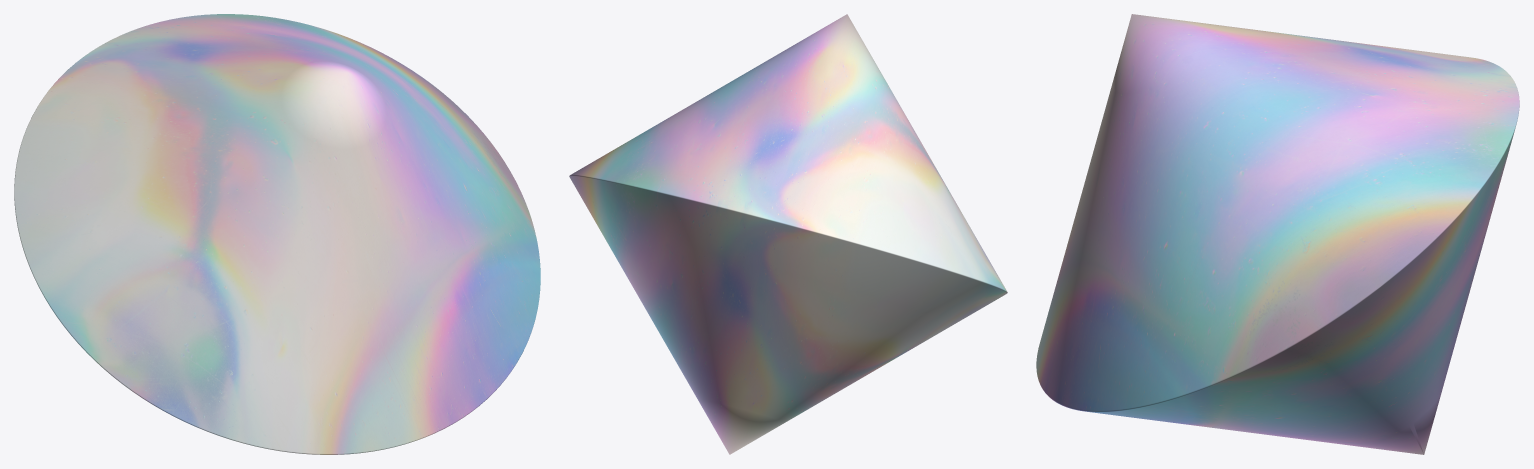
File: Prim_03.gltf
3 views of the same model, side by side, from view 1: azimuth 30°, elevation 25°; view 2: azimuth 150°, elevation 25°; view 3: azimuth 270°, elevation 25° (orthographic). The views are drawn at different scales.
Parts seen in each view (by area): view 1: Spindle001; view 2: Spindle001; view 3: Spindle001.
Boxes of the visible parts, bbox=[...] form: Spindle001: bbox=[14, 14, 540, 454]; Spindle001: bbox=[569, 14, 1007, 454]; Spindle001: bbox=[1036, 14, 1519, 454].
Bounding box in the file's own units: 65.12 × 56.24 × 55.87.
Materials: 1 (1 with a texture image).
